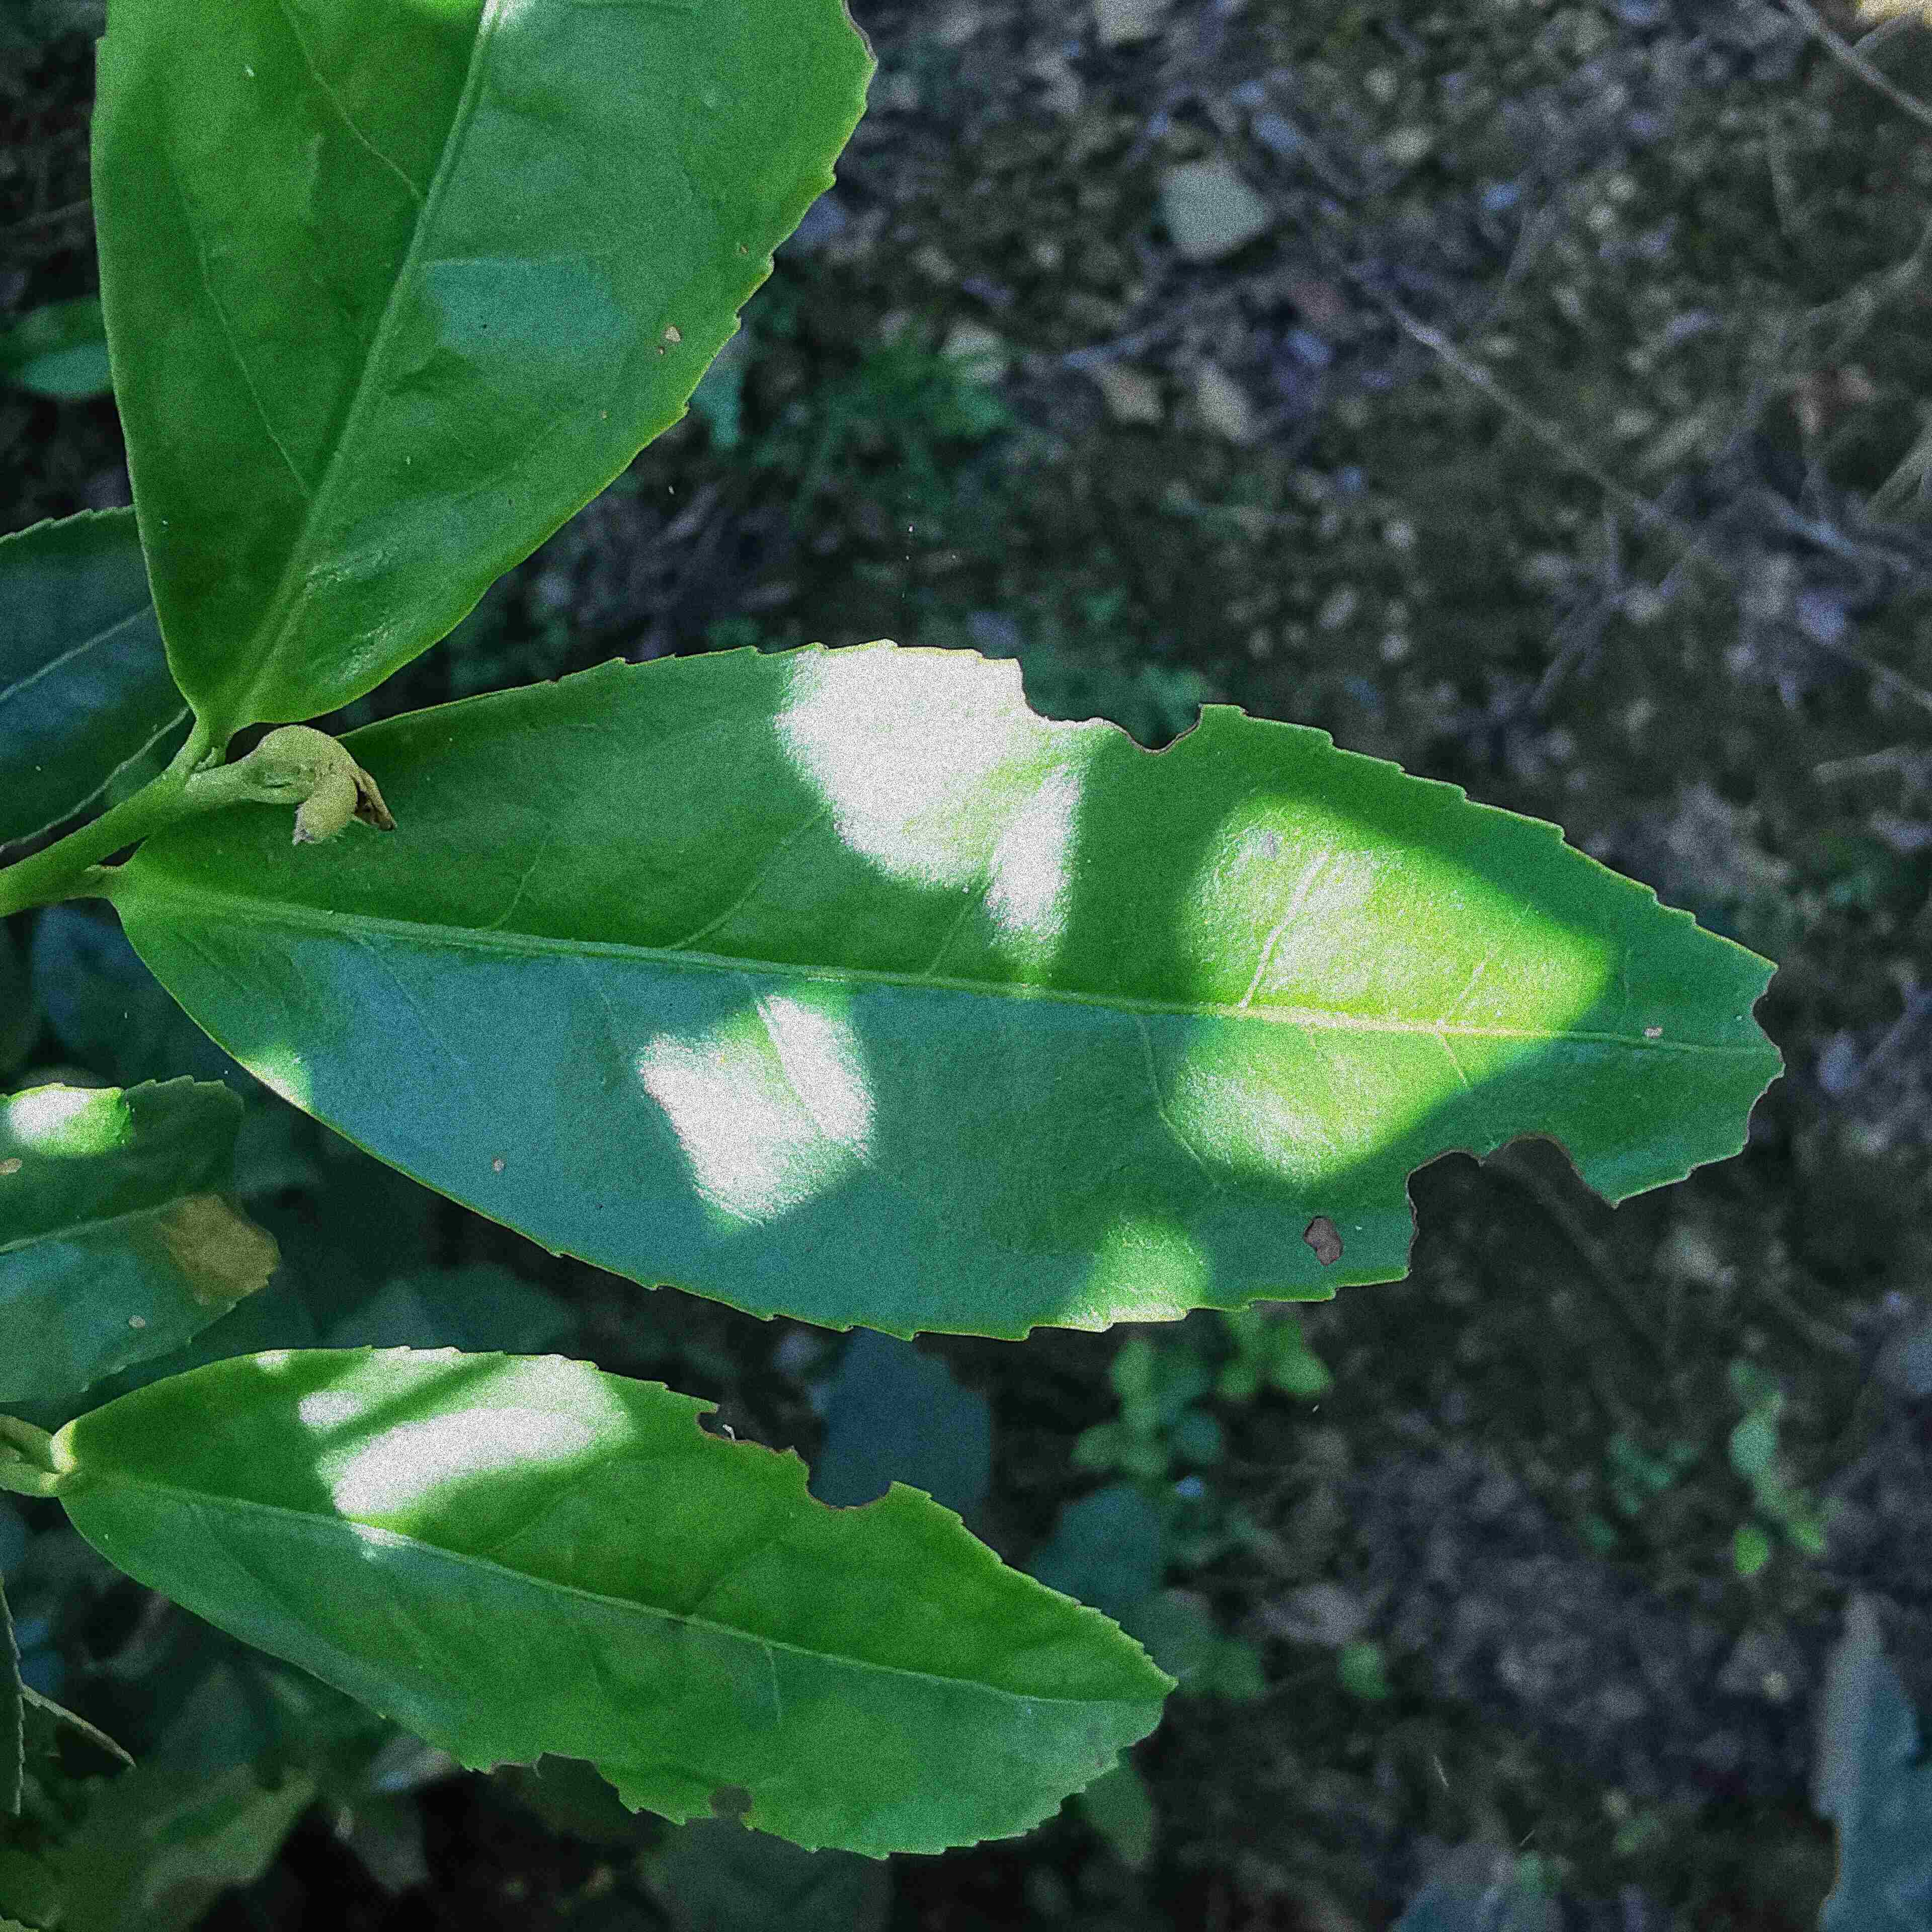chihuo_high: (122, 633, 1796, 1348), (55, 1343, 1184, 1863)
